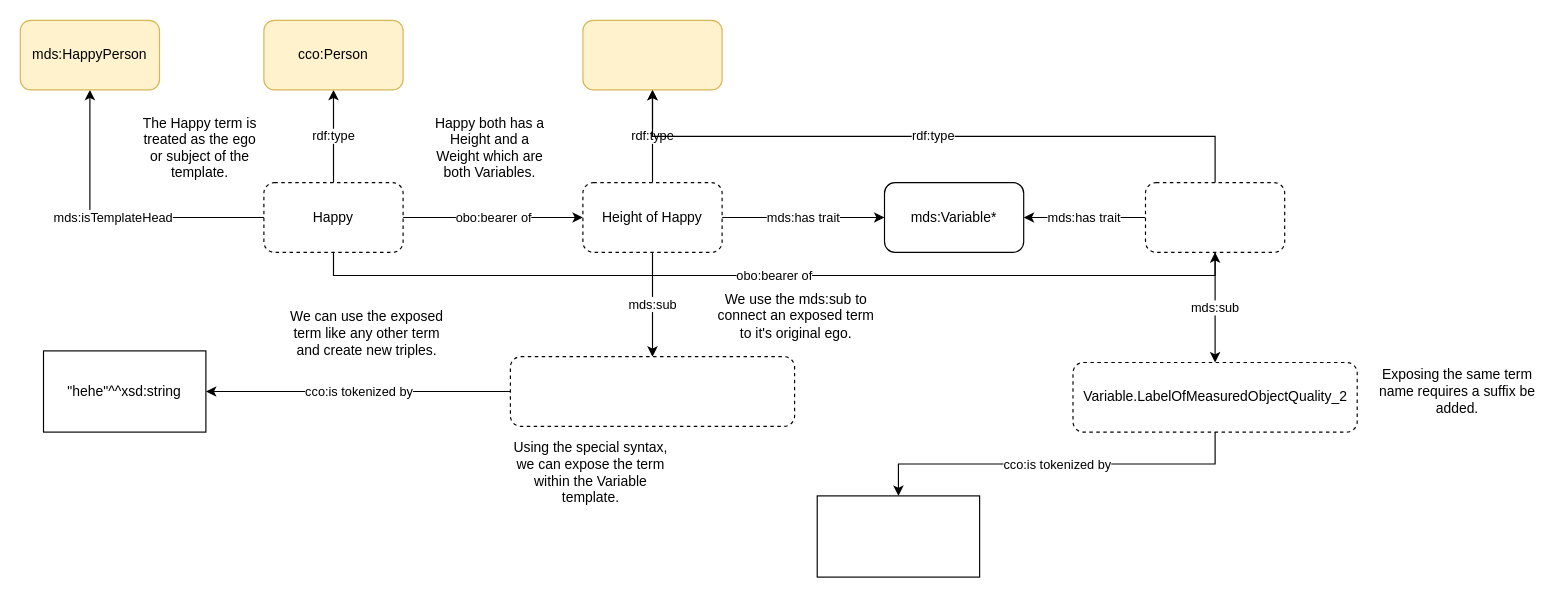
Some shapes in this 1557 by 597 pixel diagram are drawn without their labels. The box of each missing label's shape, as (x1, y1, x2, y2) in pixels:
"hoho"^^xsd:string: (816, 495, 980, 577)
obo:Quality: (582, 19, 722, 90)
Variable.LabelOfMeasuredObjectQuality_1: (509, 356, 795, 426)
Weight of Happy: (1144, 182, 1285, 252)
